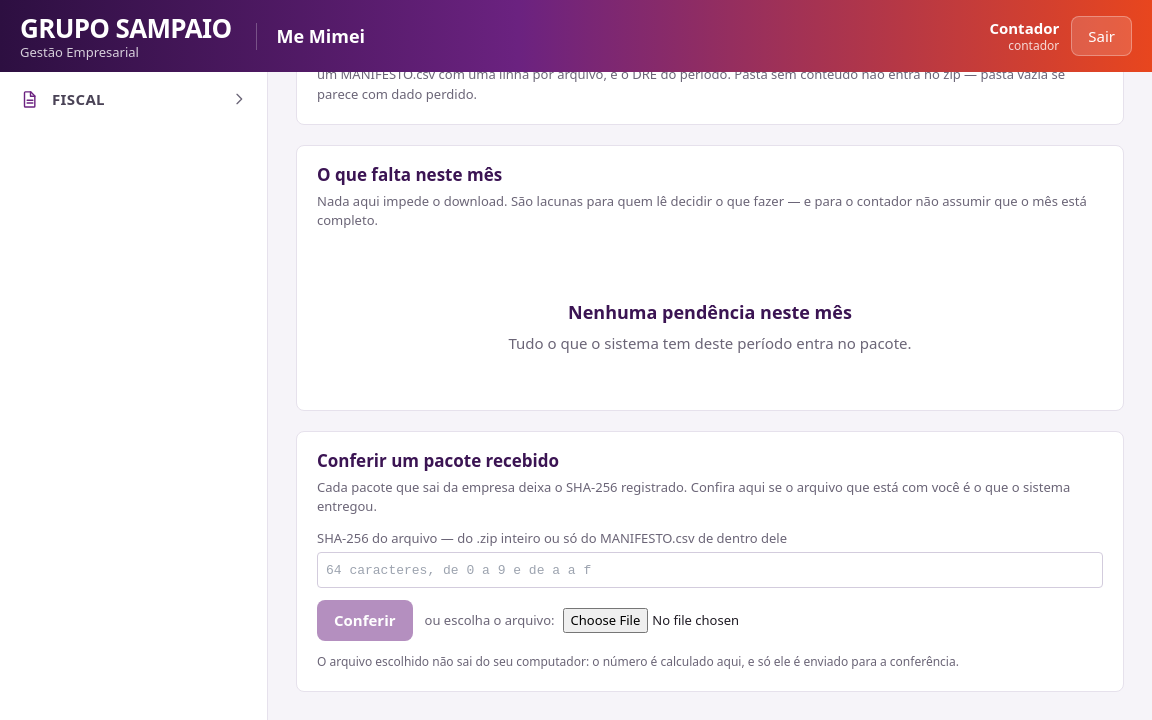
Test: conferir um pacote recebido › a recusa do servidor chega com a frase do servidor
(page scrolled)
In the field named "SHA-256 do pacote": (710, 570) 317,552 -> 1103,588, type "xyz"
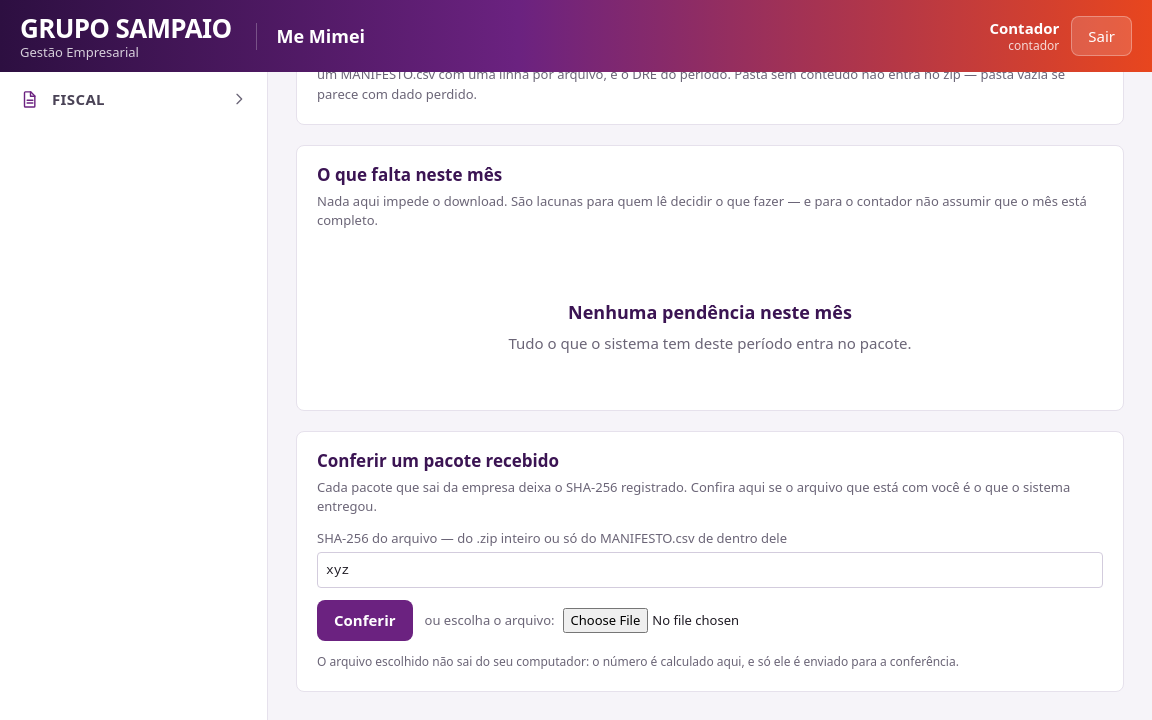
Click the button "Conferir": (365, 620) 317,600 -> 413,641
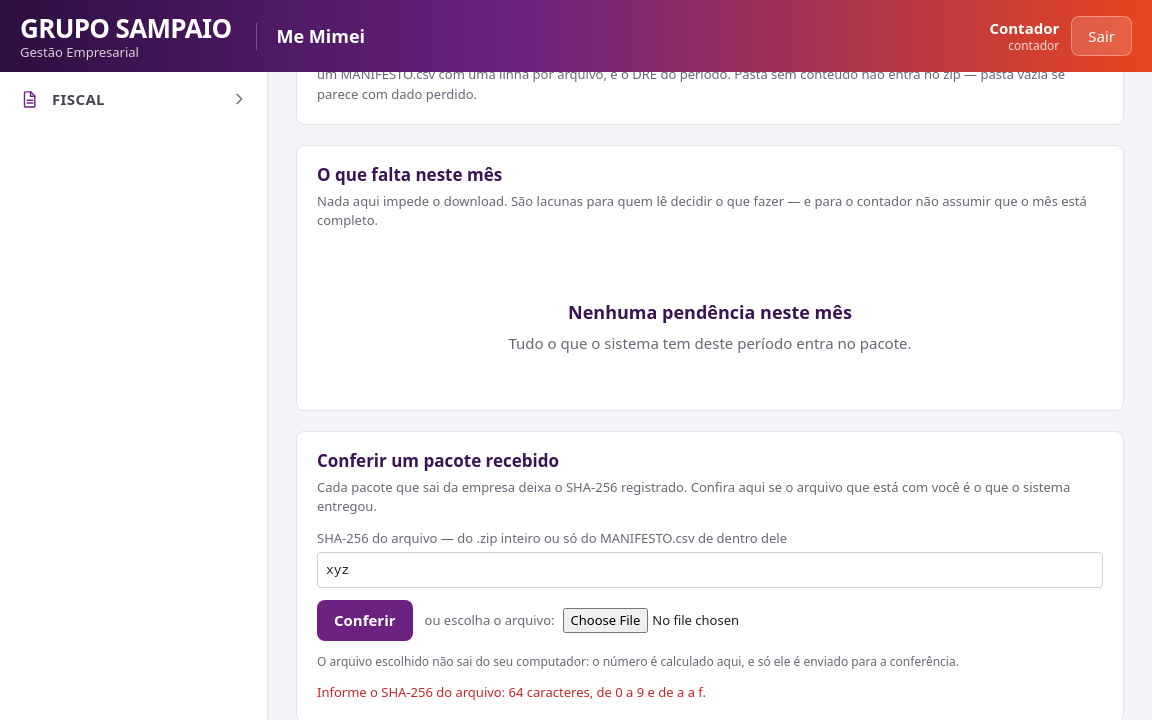
Expected: the message shows "64 caracteres", 317,683 -> 706,701
